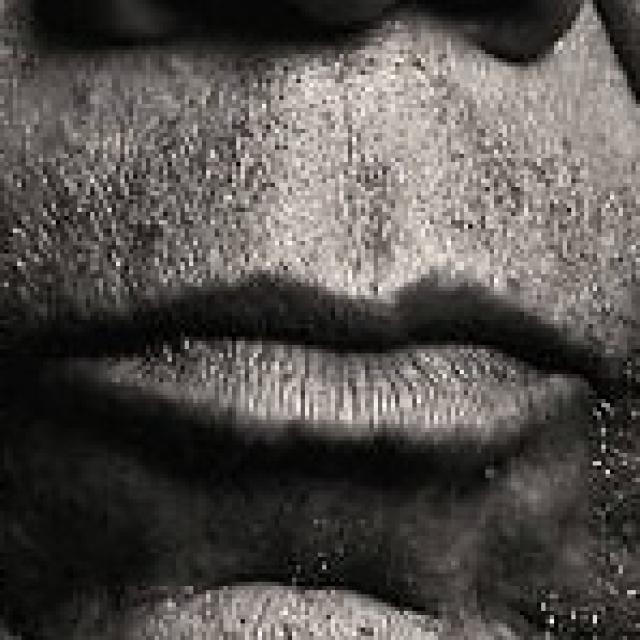closed-mouth: (27, 264, 612, 468)
